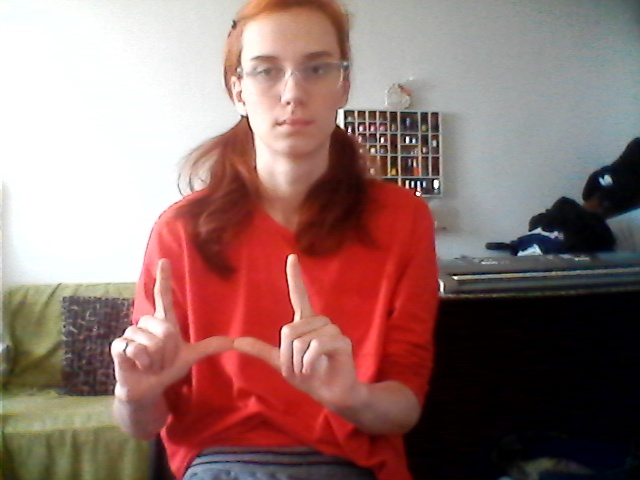u: (101, 254, 385, 418)
